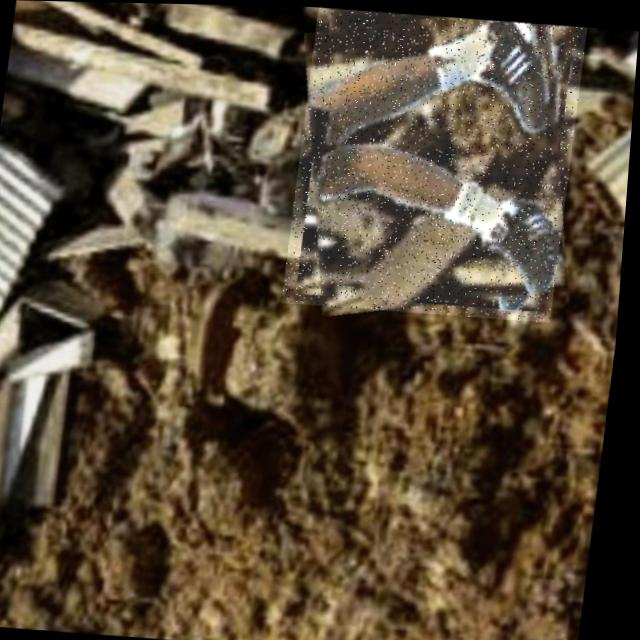Person in Rubble: (285, 5, 588, 319)
